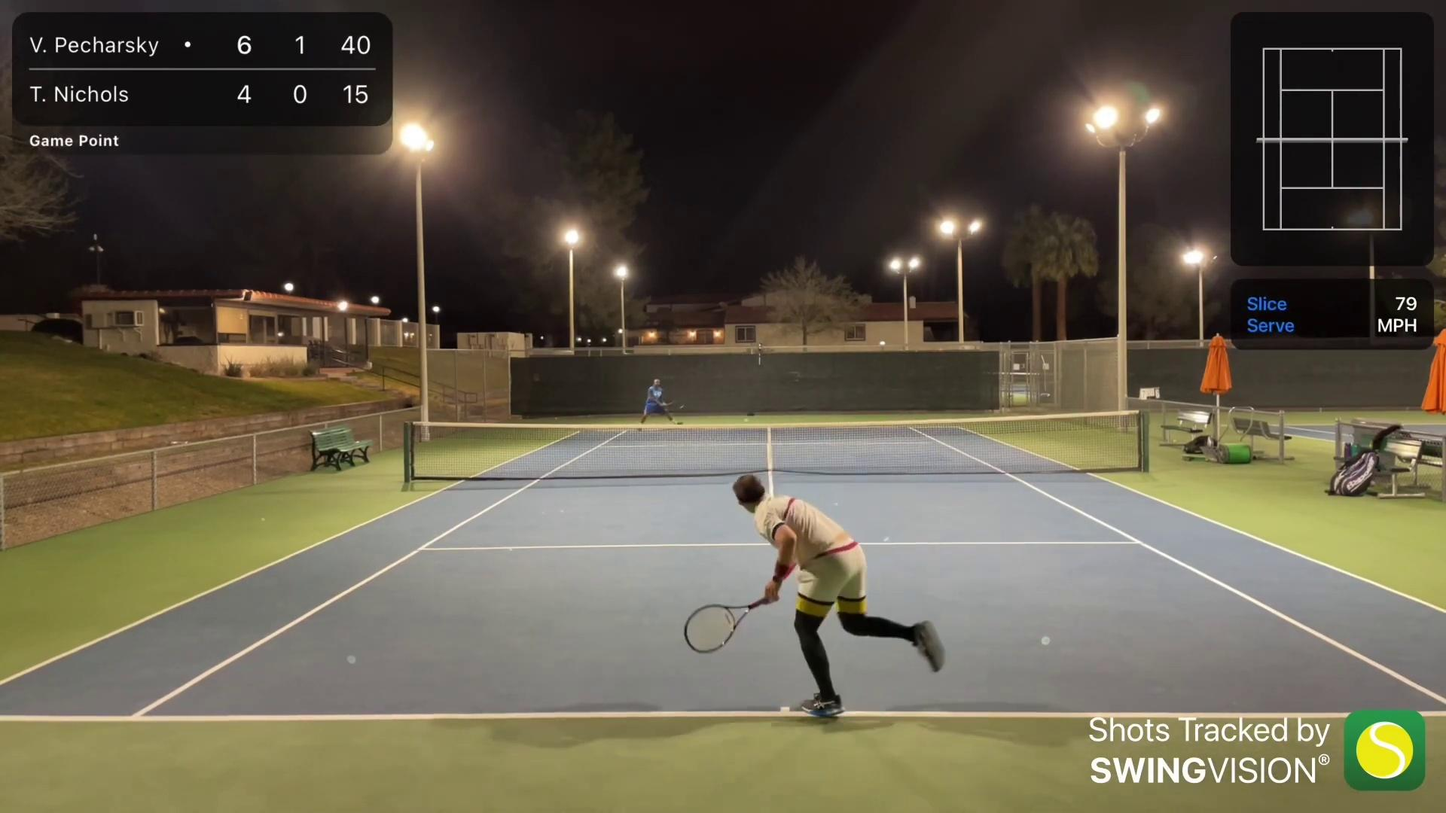ball: (743, 414, 751, 425)
